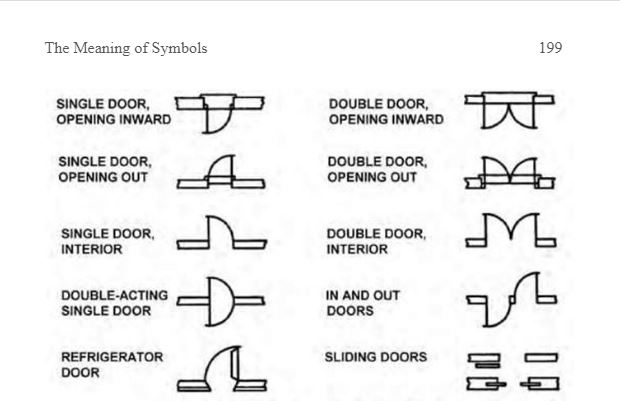door: (454, 83, 570, 148), (462, 263, 565, 335), (171, 343, 282, 401), (459, 342, 566, 401), (173, 269, 272, 331), (456, 152, 569, 203), (171, 206, 275, 260), (171, 145, 273, 197), (462, 207, 567, 255), (173, 89, 271, 136)
